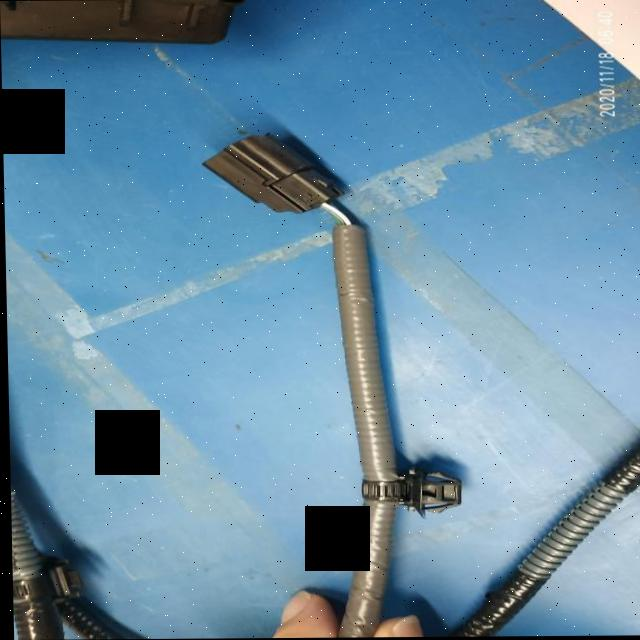cable: (327, 223, 395, 487)
clip: (356, 457, 463, 523)
connector: (199, 114, 347, 238)
